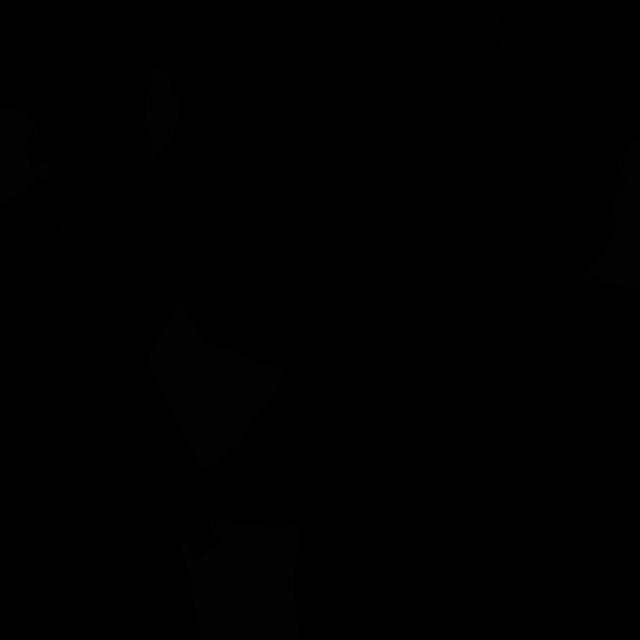cardboard: (148, 298, 284, 471), (181, 519, 301, 640), (582, 196, 640, 291), (0, 105, 49, 206), (143, 65, 182, 157), (616, 139, 640, 211)
rigid_plastic: (52, 171, 92, 288), (461, 0, 521, 74)
